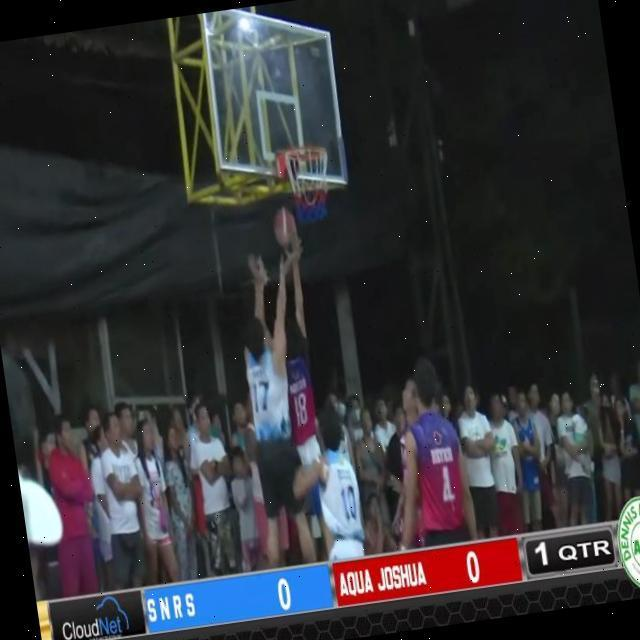ball: (268, 202, 302, 250)
hoop: (281, 145, 331, 160)
